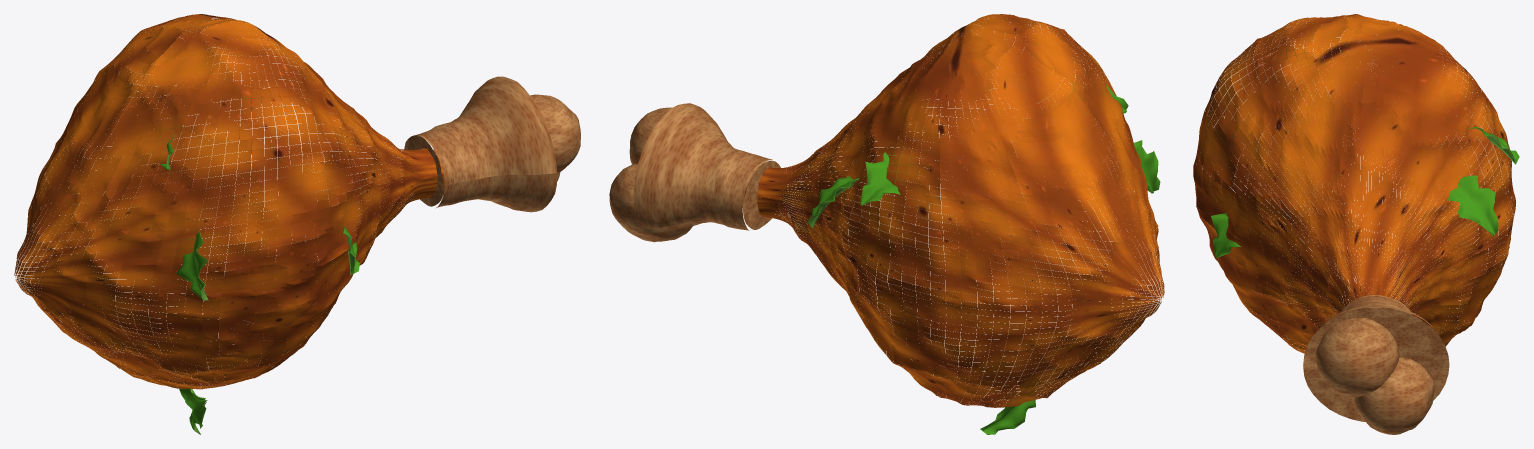
The model's file is chicken-drumstick.glb.
3 views of the same model, side by side, from view 1: azimuth 30°, elevation 25°; view 2: azimuth 150°, elevation 25°; view 3: azimuth 270°, elevation 25° (orthographic). The views are drawn at different scales.
Parts seen in each view (by area): view 1: drumstick-meat-body, exposed-knuckle-bone, object 3; view 2: drumstick-meat-body, exposed-knuckle-bone, object 3; view 3: drumstick-meat-body, exposed-knuckle-bone, object 3.
Boxes of the visible parts, x1,y1,x2,y2 form: drumstick-meat-body: [14, 14, 445, 389]; exposed-knuckle-bone: [404, 76, 580, 212]; object 3: [152, 81, 359, 434]; drumstick-meat-body: [744, 14, 1164, 407]; exposed-knuckle-bone: [609, 103, 780, 242]; object 3: [808, 82, 1160, 434]; drumstick-meat-body: [1193, 14, 1515, 353]; exposed-knuckle-bone: [1303, 295, 1449, 434]; object 3: [1203, 45, 1519, 258].
Bounding box in the file's own units: 0.1653 × 0.1155 × 0.0896.
5 materials, 2 textured.
